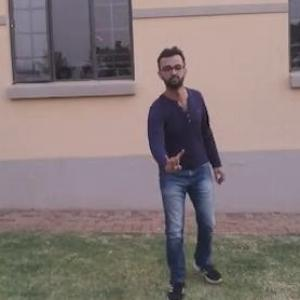takeoff-hand: (160, 142, 186, 177)
